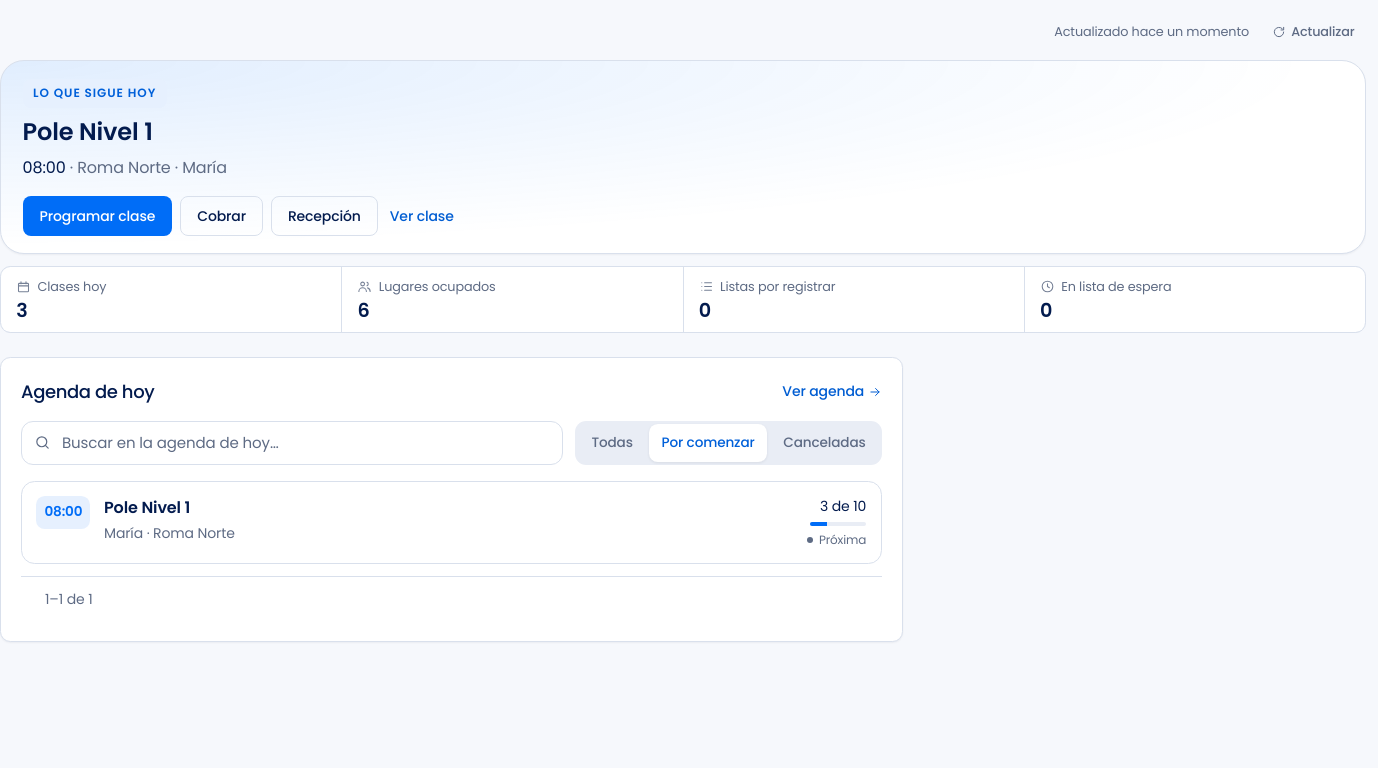
Scenario: el día de hoy en el Inicio › busca por nombre sin acentos y filtra sin cambiar las cifras del día
Click the button "Todas". click: (612,443)
box: [579,424,646,462]
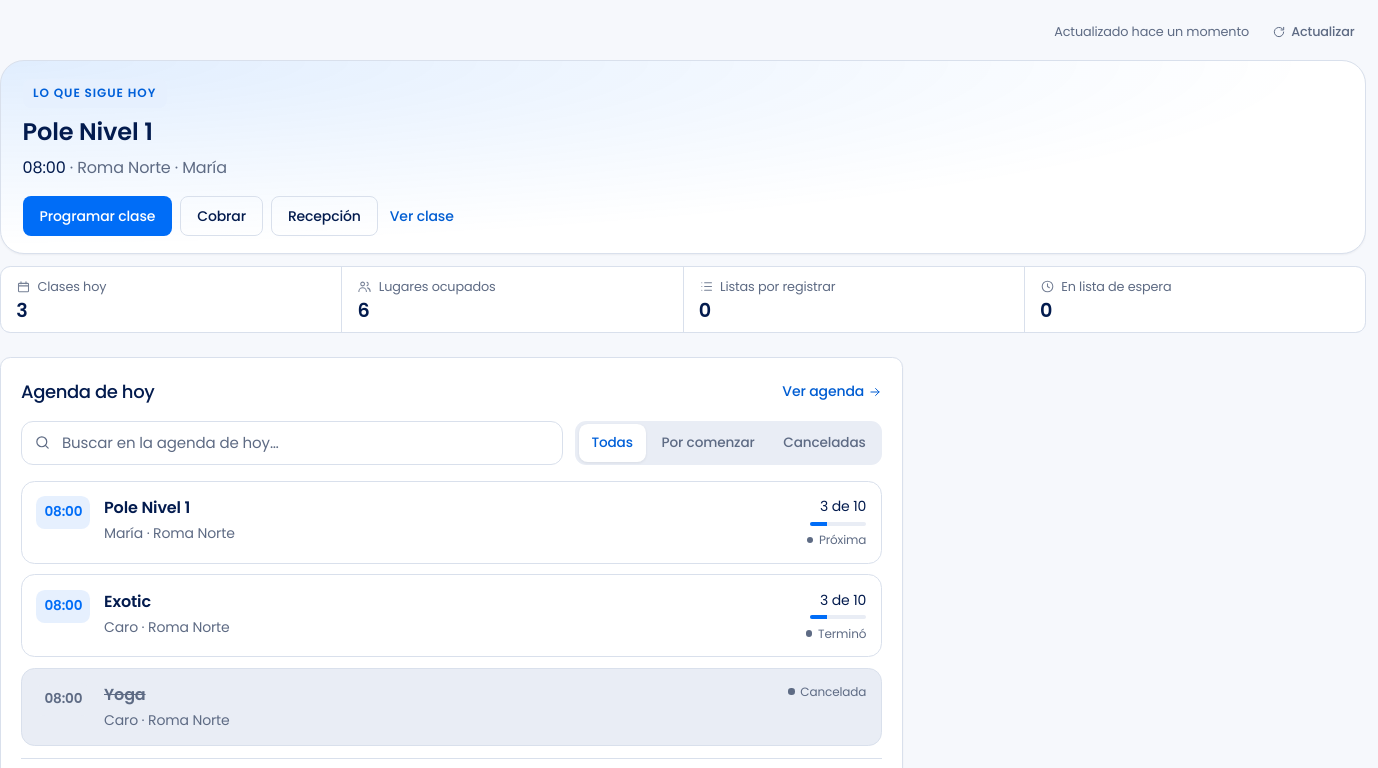
Type "maria" into the search field with placeholder "Buscar en la agenda de hoy…". click: (292,443)
box: [21,421,563,465]
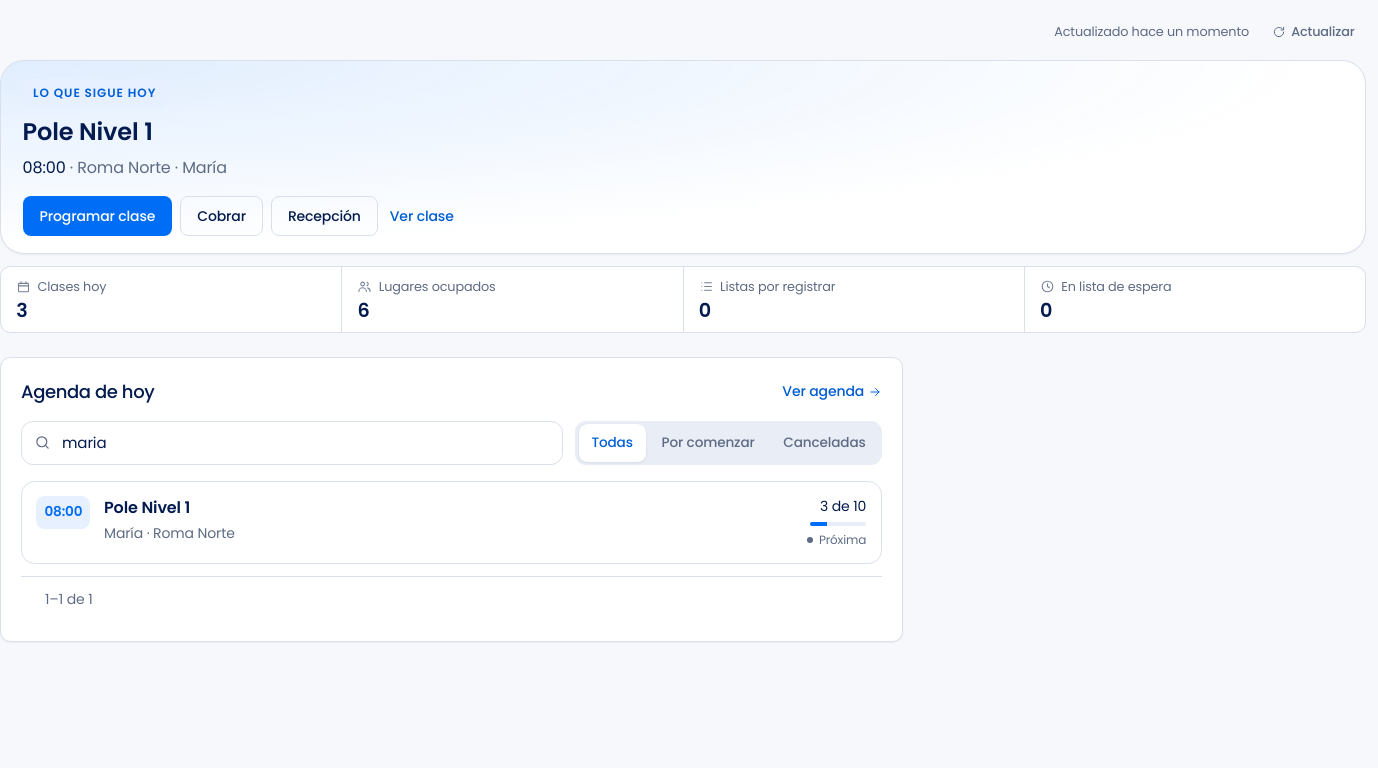
Expected: the list item with class "hoy-sesion" shows "María", [104,523,235,543]
Result: the number of list items with class "hoy-sesion" is 1 at [21,481,882,564]
Replace the text in the search field named "Buscar en la agenda de hoy…" with "exotic". click: (292,443)
box: [21,421,563,465]
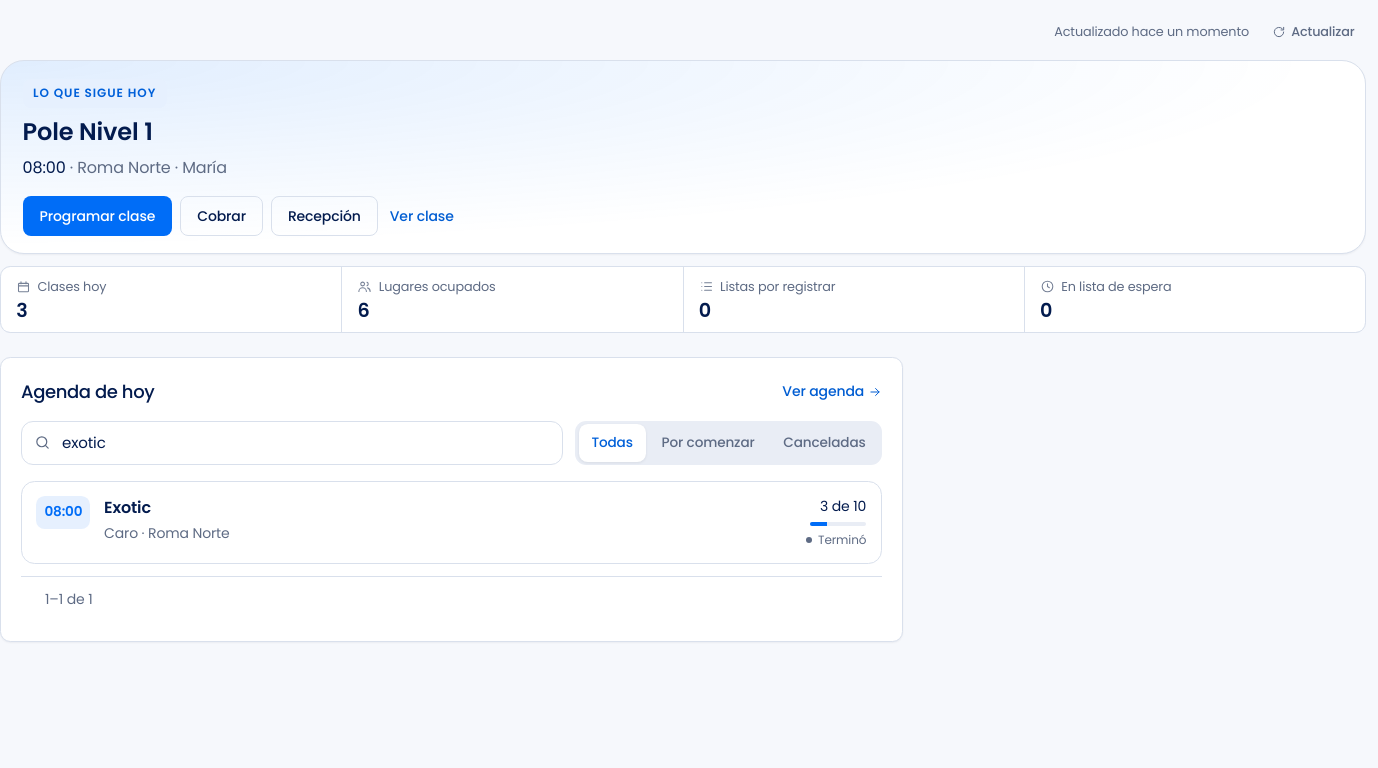
Expected: the element showing "Clases hoy 3" is shown, [1,267,341,332]
Result: the number of list items with class "hoy-sesion" is 1 at [21,481,882,564]
Clear the search field named "Buscar en la agenda de hoy…". click: (292,443)
box: [21,421,563,465]
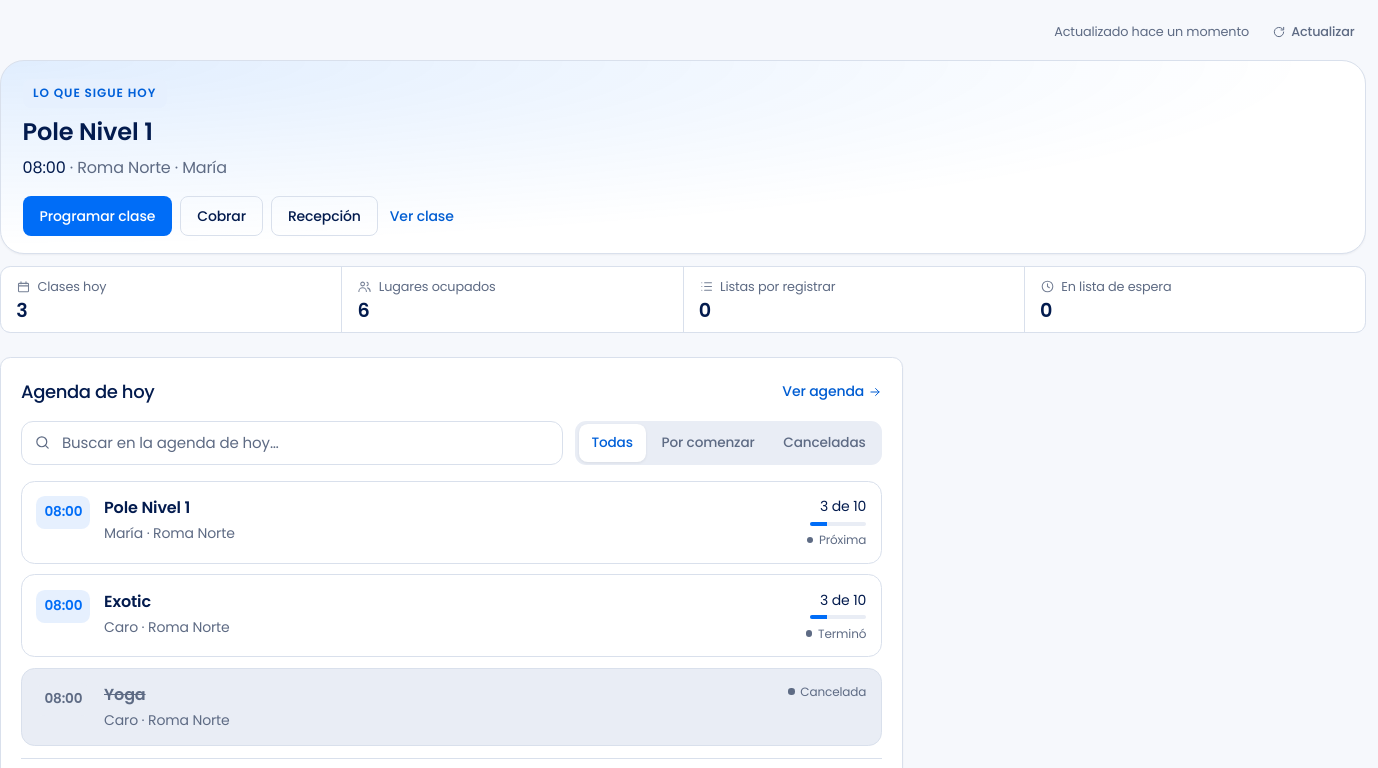
Click the button "Por comenzar". click: (708,443)
box: [649,424,767,462]
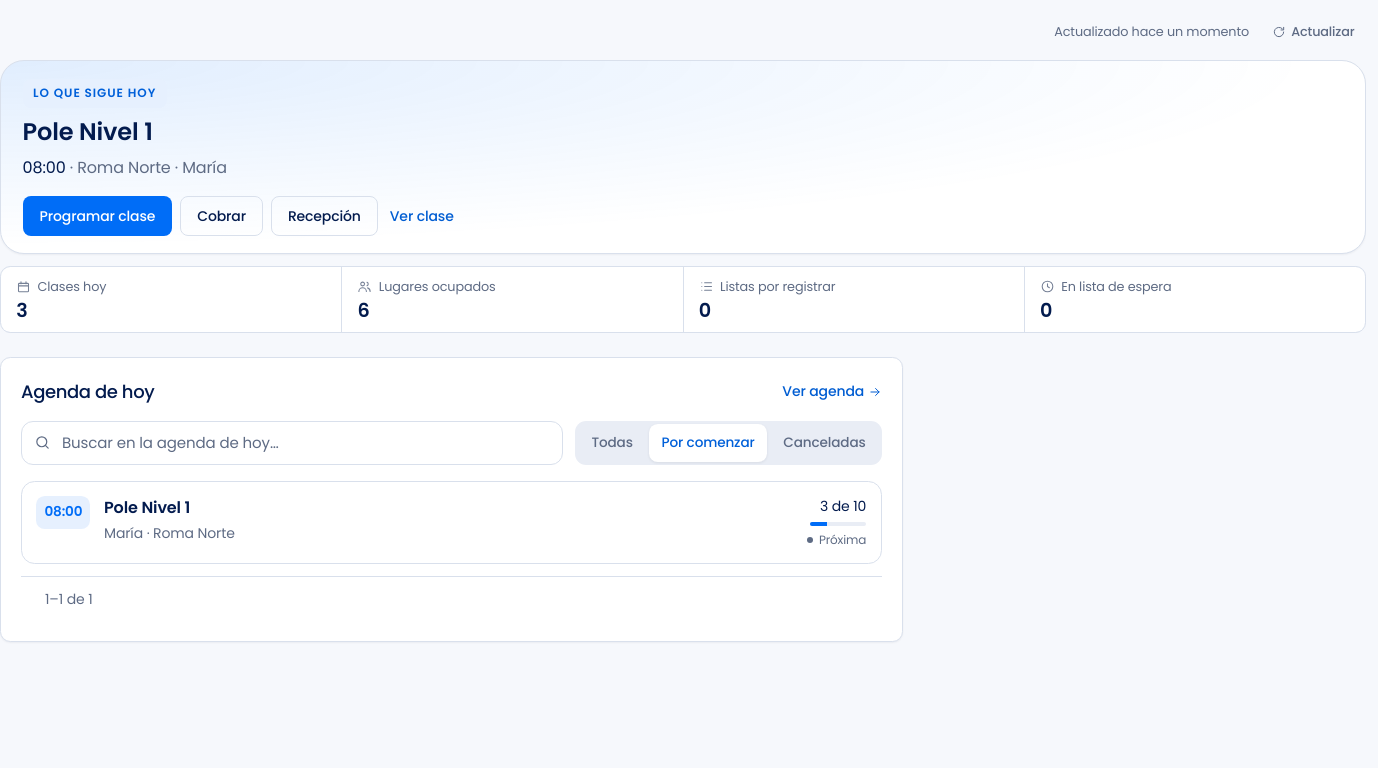
Result: the list item with class "hoy-sesion" shows "María" at [104,523,235,543]
Result: the number of list items with class "hoy-sesion" is 1 at [21,481,882,564]
Click the button "Canceladas". click: (825,443)
box: [771,424,878,462]
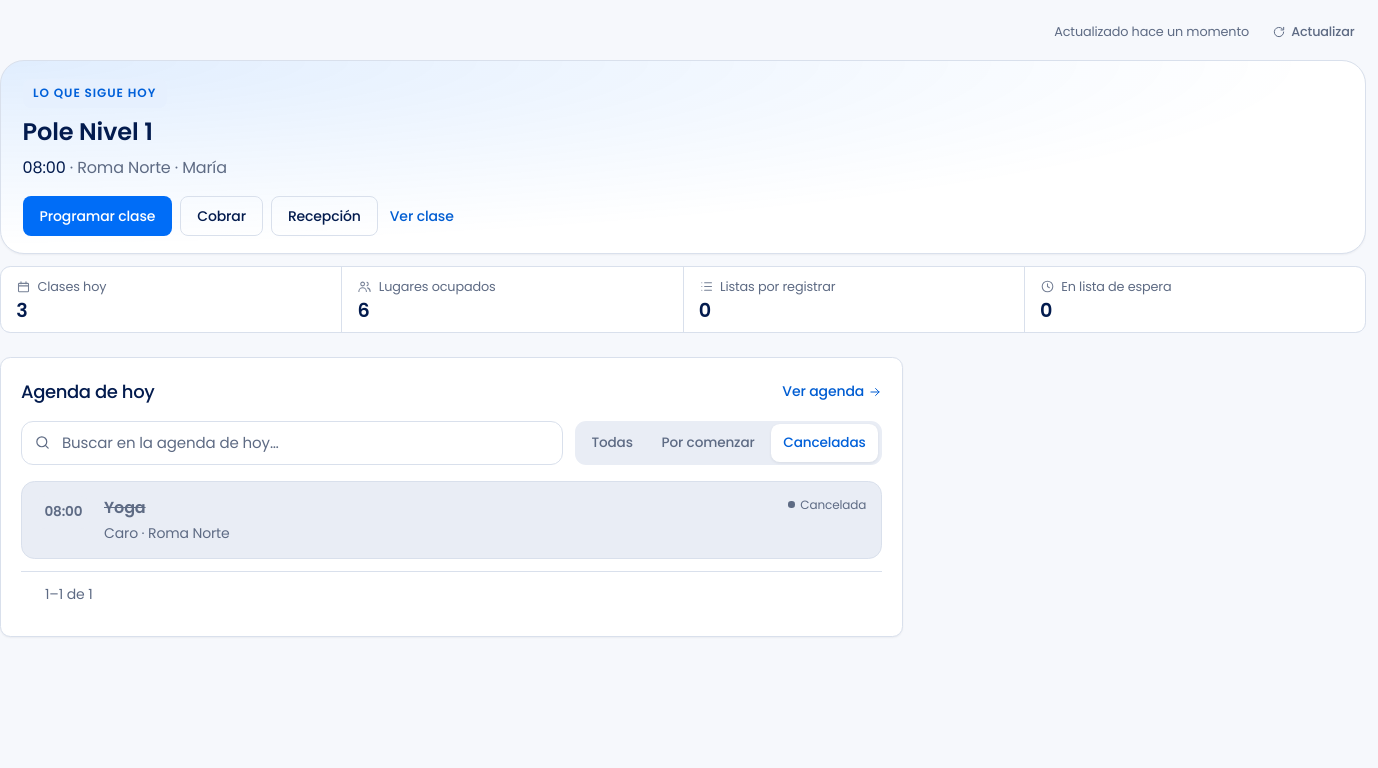
Result: the list item with class "hoy-sesion" shows "Yoga" at [104,496,146,519]
